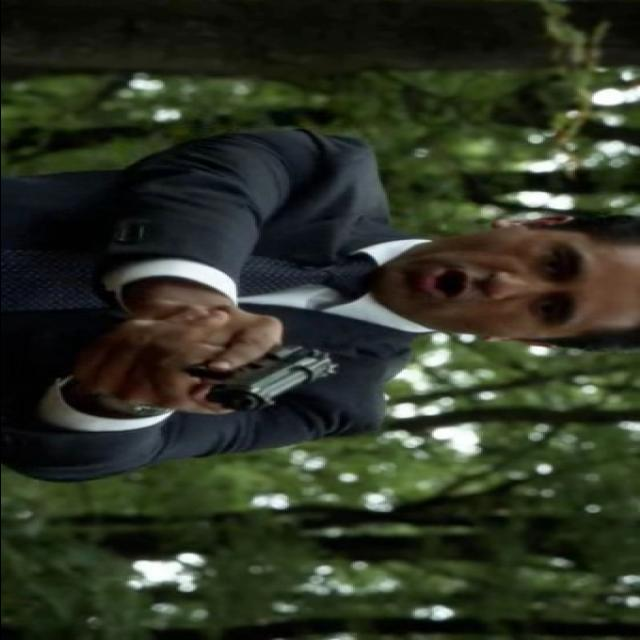weapons: (96, 321, 375, 413)
